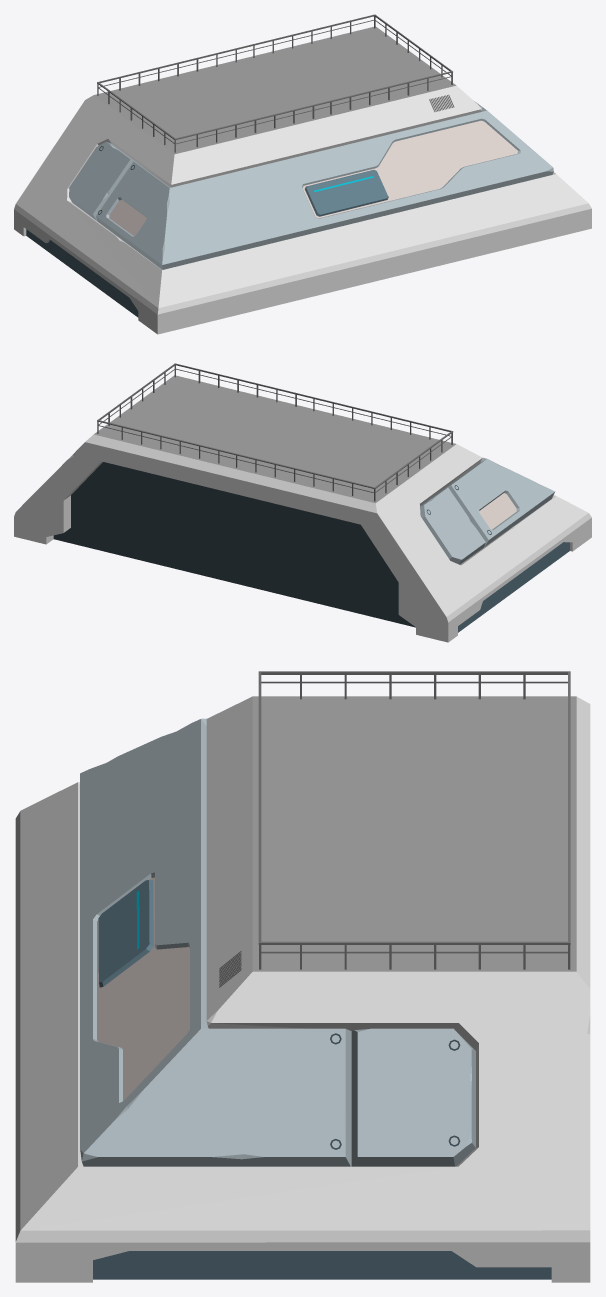
Rendered from space_station_017.fbx.
3 views of the same model, one above another, from view 1: azimuth 30°, elevation 25°; view 2: azimuth 150°, elevation 25°; view 3: azimuth 270°, elevation 25° (orthographic). The views are drawn at different scales.
Visible parts, largest first — view 1: space_station_017; view 2: space_station_017; view 3: space_station_017.
Boxes of the visible parts, <box> form: space_station_017: <box>14,14,591,334</box>; space_station_017: <box>14,363,591,642</box>; space_station_017: <box>15,671,590,1282</box>.
Bounding box in the file's own units: 3415 × 1958 × 991.
